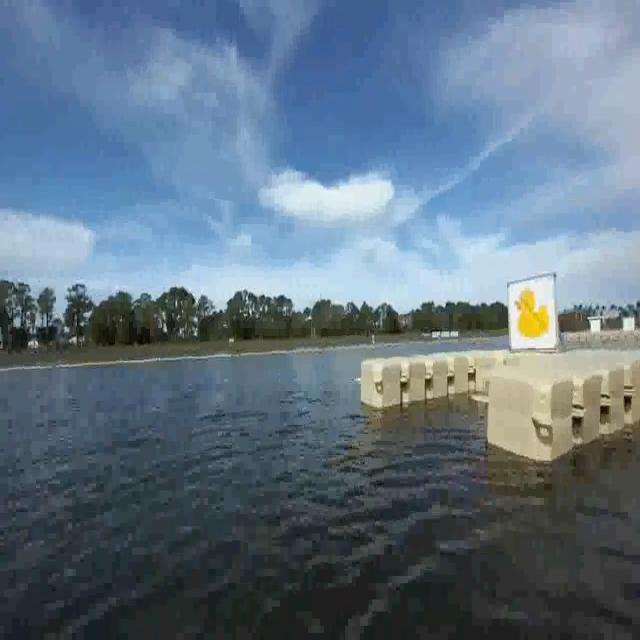yellow-duck: (506, 283, 558, 349)
